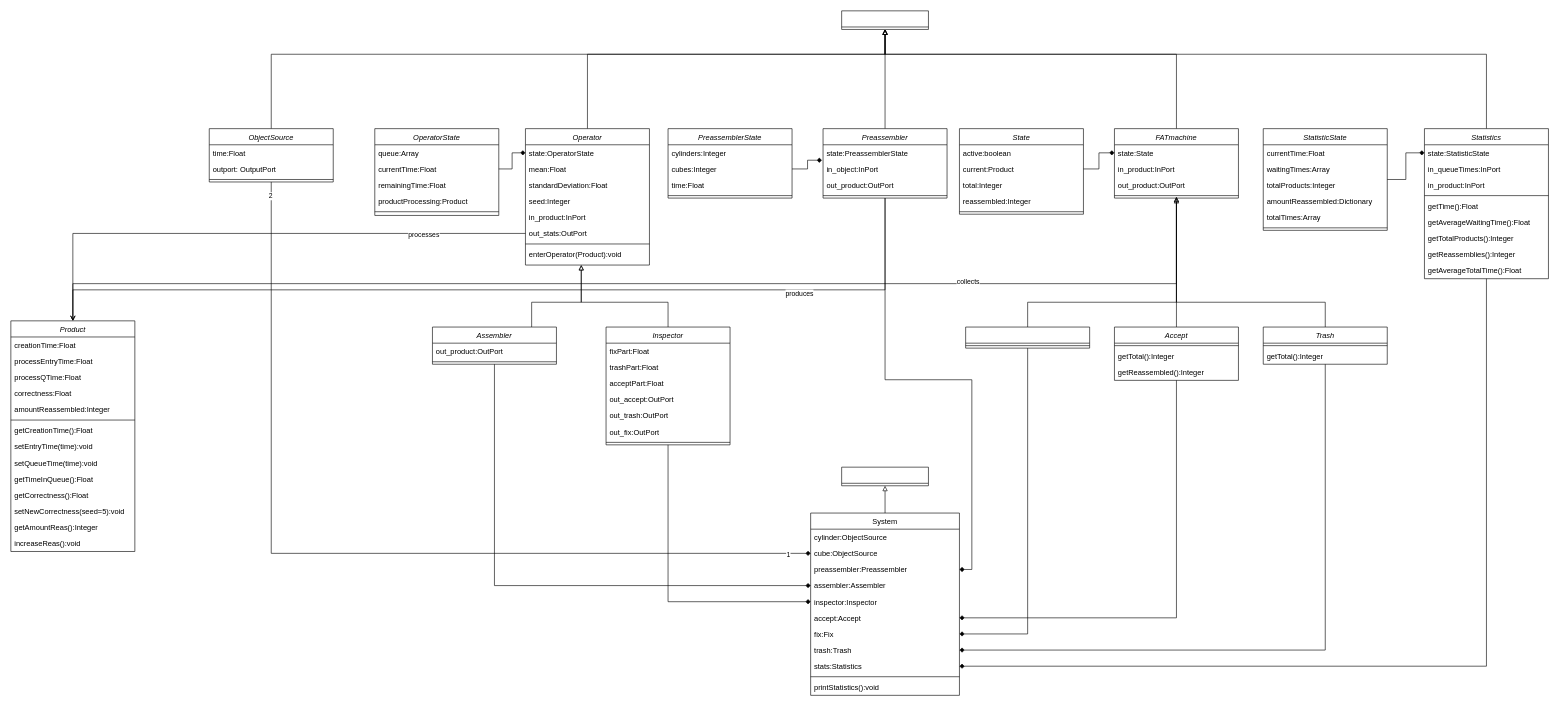
The diagram is 1559 pixels wide and 708 high, and some of its shapes have lost their labels. Here are the shapes that lost their labels. From the top down, the centre of each, then its label:
At pixel 884 19: "AtomicDEVS".
At pixel 1027 337: "Fix".
At pixel 884 476: "CoupledDEVS".
